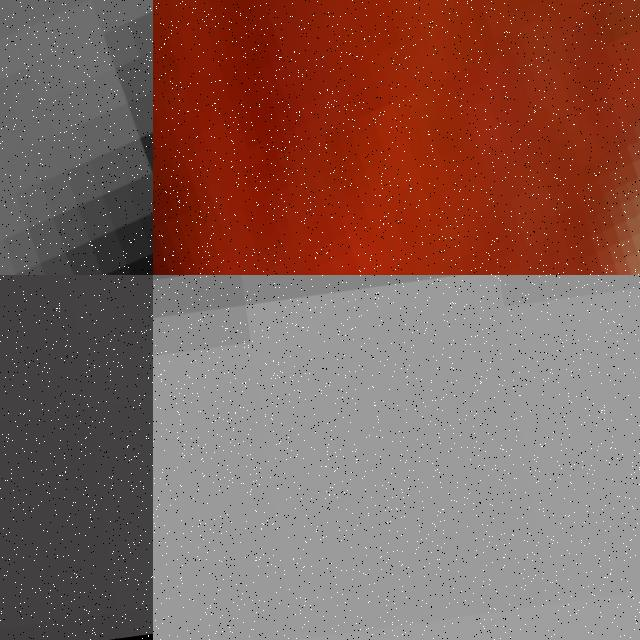0: (0, 0, 153, 275)
drone: (153, 0, 640, 275)
